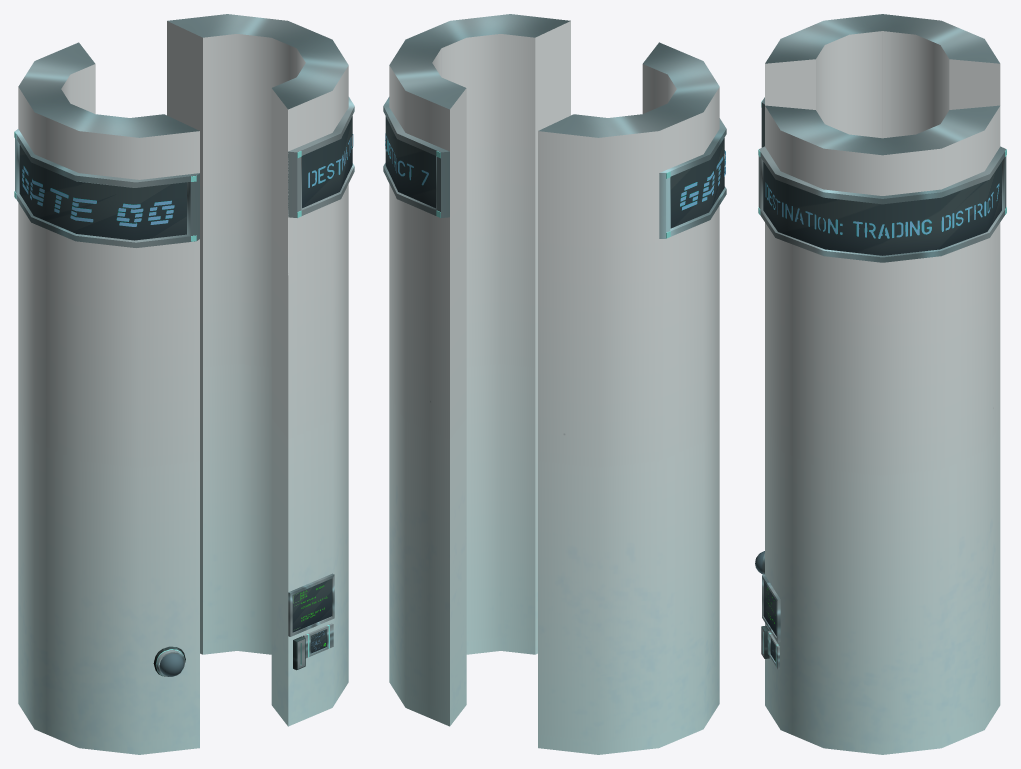
File: Portal_Futuristic-White.fbx
3 renders of one model, left to right at view 1: azimuth 30°, elevation 25°; view 2: azimuth 150°, elevation 25°; view 3: azimuth 270°, elevation 25°, orthographic. The views are drawn at different scales.
Parts seen in each view (by area): view 1: Portal_Futuristic-White-, Portal_Futuristic-White-Decals-; view 2: Portal_Futuristic-White-, Portal_Futuristic-White-Decals-; view 3: Portal_Futuristic-White-, Portal_Futuristic-White-Decals-.
Boxes of the visible parts, bbox=[...] form: Portal_Futuristic-White-: bbox=[14, 14, 354, 754]; Portal_Futuristic-White-Decals-: bbox=[22, 134, 353, 649]; Portal_Futuristic-White-: bbox=[383, 14, 726, 754]; Portal_Futuristic-White-Decals-: bbox=[385, 133, 725, 210]; Portal_Futuristic-White-: bbox=[755, 14, 1006, 754]; Portal_Futuristic-White-Decals-: bbox=[765, 182, 999, 660].
Size of the model in its own units: 1572 by 3000 by 1142.
2 materials, 2 textured.
